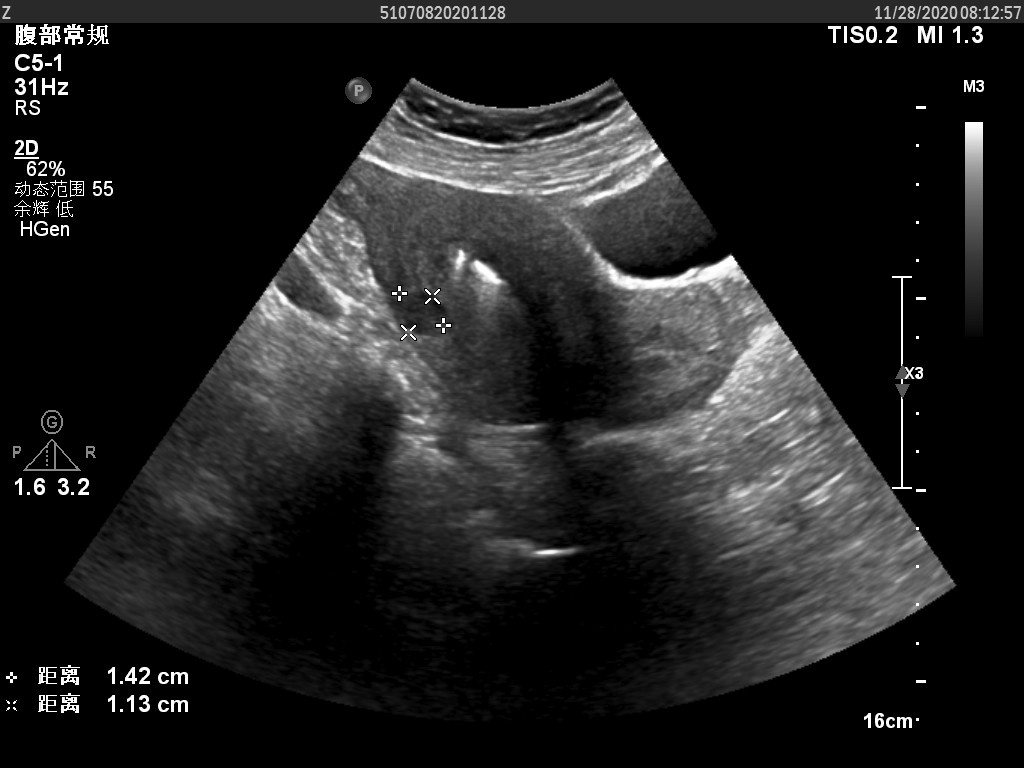肌瘤: (396, 292, 444, 335)
